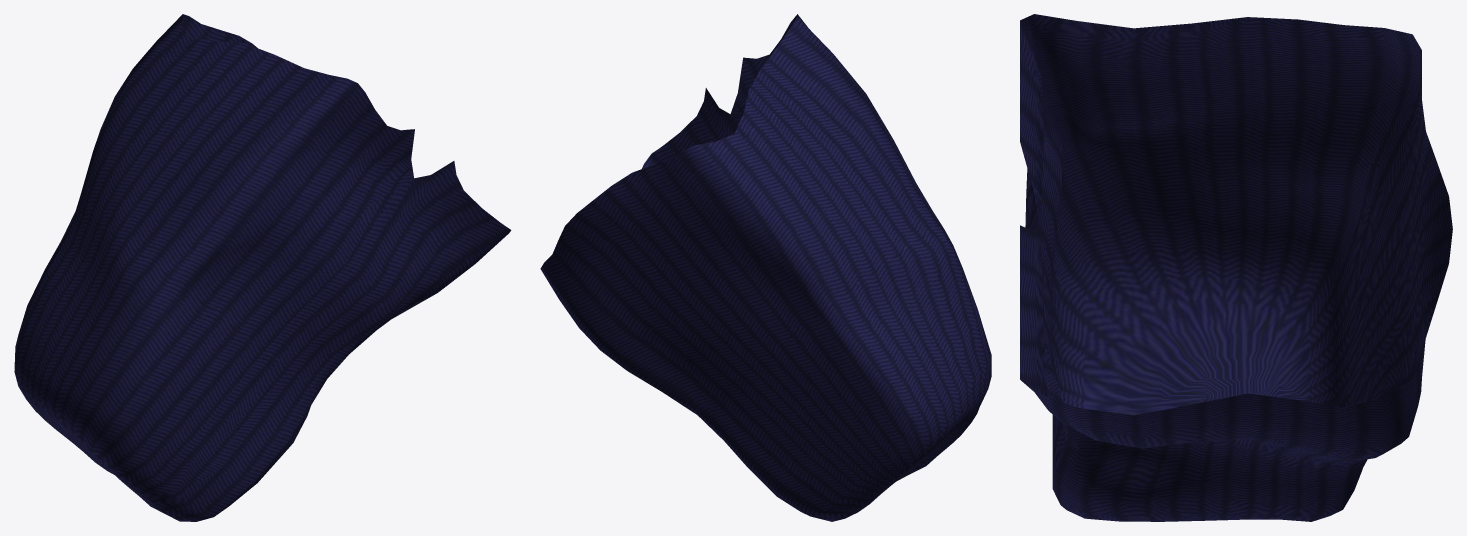
Rendered from LampLight_3DAsset_PodRightSleeve.FBX.
3 renders of one model, left to right at view 1: azimuth 30°, elevation 25°; view 2: azimuth 150°, elevation 25°; view 3: azimuth 270°, elevation 25°, orthographic. The views are drawn at different scales.
Parts seen in each view (by area): view 1: Box007; view 2: Box007; view 3: Box007.
Part boxes in pixels (<box>): Box007: <box>14,14,511,521</box>; Box007: <box>540,14,991,521</box>; Box007: <box>1020,14,1452,521</box>.
Size of the model in its own units: 53.39 by 53.96 by 35.82.
